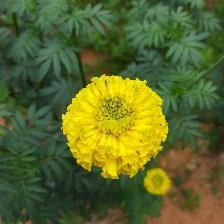marigold: (62, 75, 169, 182)
